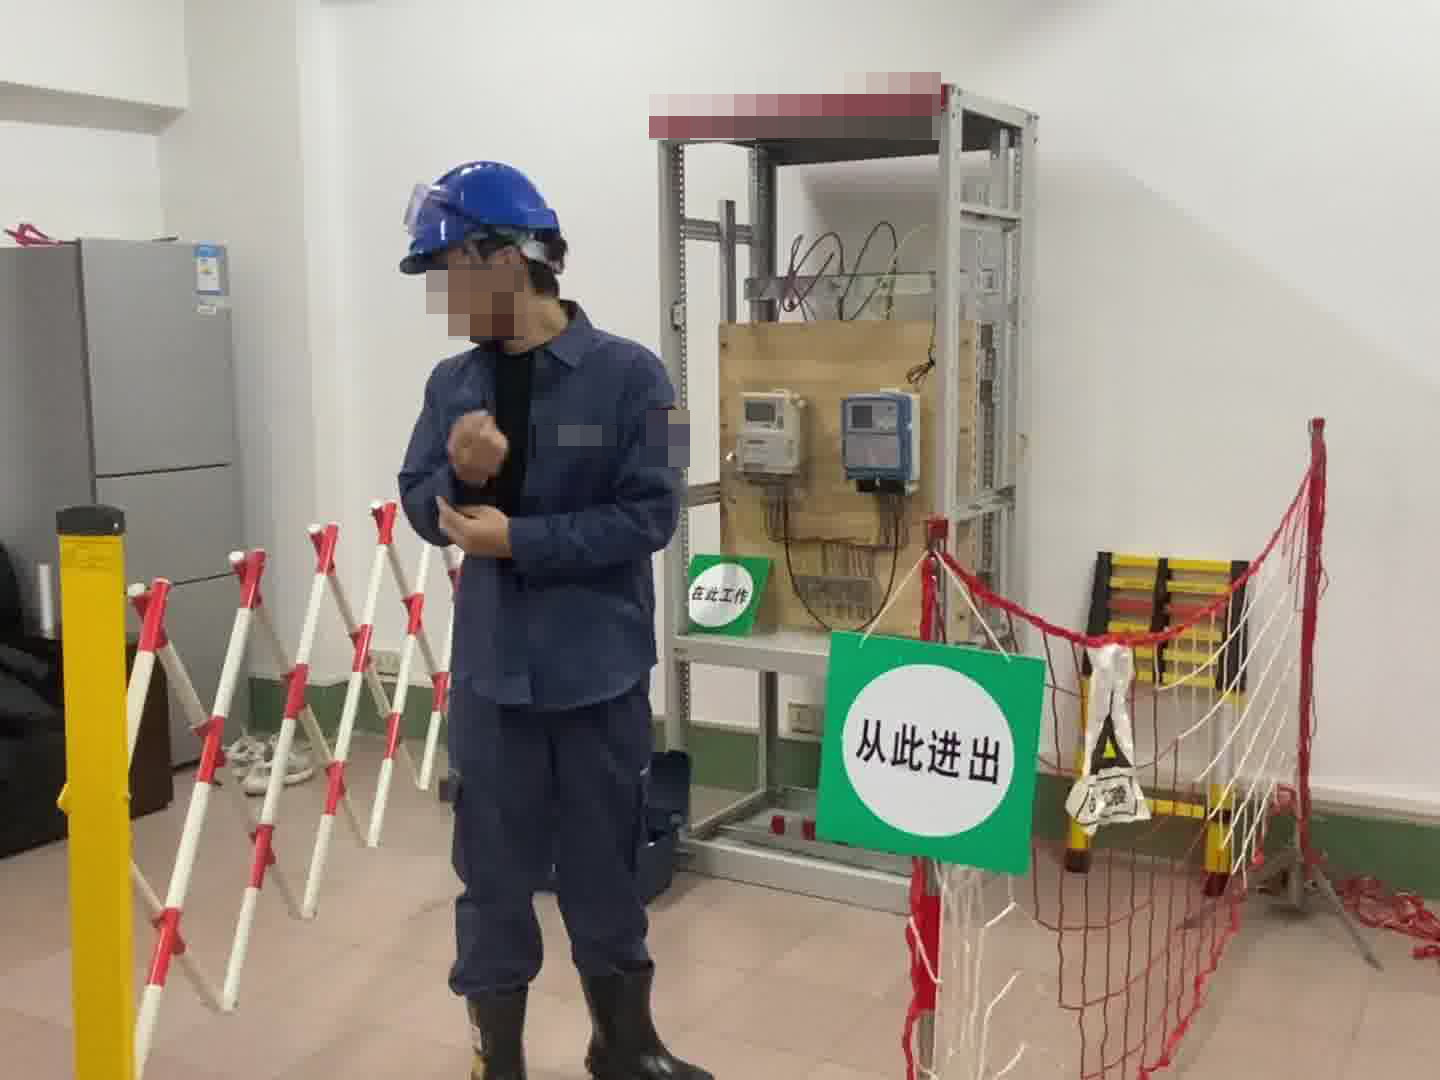downsuit: (439, 693, 672, 995)
halt: (397, 158, 573, 353)
hand: (429, 499, 510, 562), (452, 418, 509, 480)
inear: (471, 231, 540, 318)
intosign: (812, 633, 1050, 875)
person: (387, 156, 710, 1080)
shoe: (574, 968, 702, 1080), (457, 989, 539, 1080)
sleeve: (654, 405, 693, 464)
upsuit: (394, 308, 685, 709)
worksign: (684, 551, 757, 633)
wrongsuit: (478, 368, 558, 703)
